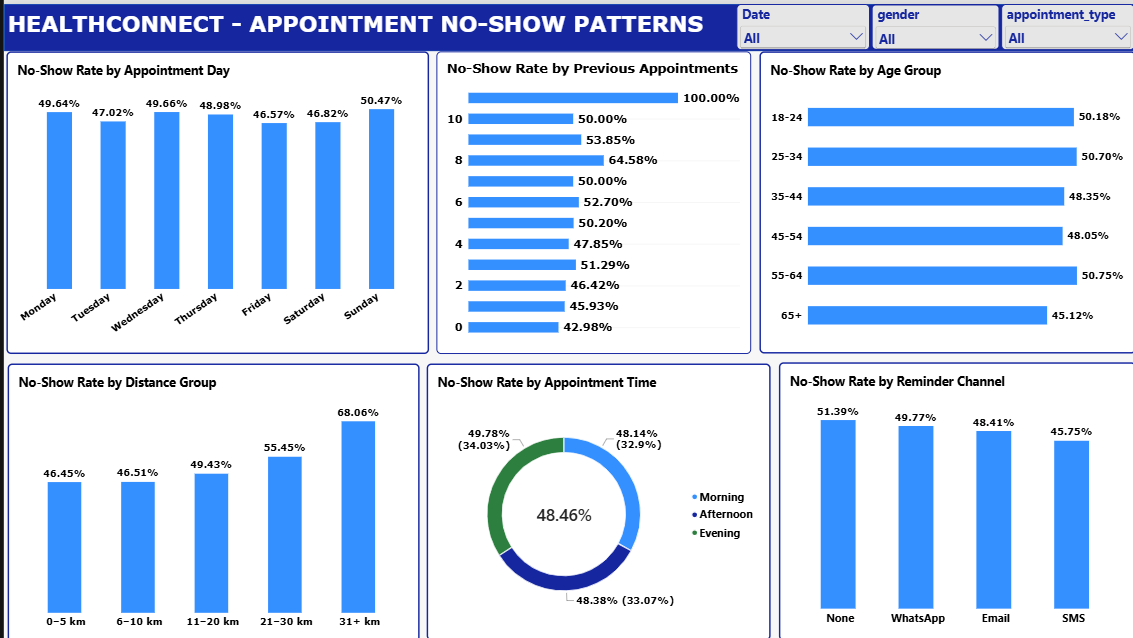

The page's visual inventory and layout, read from the dashboard file:
{"tool":"powerbi","page":{"name":"NO-SHOW-PATTERN","canvas":[1920,1080],"ordinal":1},"visuals":[{"type":"shape","box":[0,0,1918.5,80.3],"z":0},{"type":"clusteredColumnChart","title":"No-Show Rate by Appointment Day","fields":{"Category":["Appointments.appointment_day"],"Y":["Appointments.No-Show Rate"]},"box":[4.1,80.3,716.4,512.5],"z":1000},{"type":"clusteredBarChart","title":"No-Show Rate by Age Group","fields":{"Category":["Appointments.age_group"],"Y":["Appointments.No-Show Rate"]},"box":[1280.5,80.3,637.7,512.2],"z":2000},{"type":"donutChart","title":"No-Show Rate by Appointment Time","fields":{"Category":["Appointments.appointment_time"],"Y":["Appointments.No-Show Rate"]},"box":[716.4,609.3,582.6,469.3],"z":3000},{"type":"clusteredColumnChart","fields":{"Category":["Appointments.Distance Group New"],"Y":["Appointments.No-Show Rate"]},"box":[6.2,609.3,697.8,471.4],"z":4000},{"type":"slicer","fields":{"Values":["Appointments.appointment_type"]},"box":[1690,0,226.4,78.2],"z":5000},{"type":"slicer","fields":{"Values":["Appointments.gender"]},"box":[1469.8,0,218.2,78.2],"z":6000},{"type":"slicer","fields":{"Values":["DateTable.Date"]},"box":[1241.3,0,226.4,78.2],"z":7000},{"type":"clusteredColumnChart","title":"No-Show Rate by Reminder Channel","fields":{"Category":["Appointments.reminder_channel"],"Y":["Appointments.No-Show Rate"]},"box":[1313.3,607.3,605.2,471.4],"z":8000},{"type":"textbox","box":[6.2,10.3,1274.2,70],"z":9000},{"type":"clusteredBarChart","title":"No-Show Rate by Previous Appointments","fields":{"Y":["Appointments.No-Show Rate"],"Category":["Appointments.previous_appointments"]},"box":[732.8,80.3,533.1,512.5],"z":10000}]}

Visuals, with their boxes in screenshot pixels (x1, y1, x2, y2), scaled from the page's 1920x1080 canvas onto the 1133x638 screenshot:
shape: select_region(0, 0, 1132, 47)
"No-Show Rate by Appointment Day" clusteredColumnChart: select_region(2, 47, 425, 350)
"No-Show Rate by Age Group" clusteredBarChart: select_region(756, 47, 1132, 350)
"No-Show Rate by Appointment Time" donutChart: select_region(423, 360, 767, 637)
clusteredColumnChart - Appointments.Distance Group New x Appointments.No-Show Rate: select_region(4, 360, 415, 637)
slicer - Appointments.appointment_type: select_region(997, 0, 1131, 46)
slicer - Appointments.gender: select_region(867, 0, 996, 46)
slicer - DateTable.Date: select_region(732, 0, 866, 46)
"No-Show Rate by Reminder Channel" clusteredColumnChart: select_region(775, 359, 1132, 637)
textbox: select_region(4, 6, 756, 47)
"No-Show Rate by Previous Appointments" clusteredBarChart: select_region(432, 47, 747, 350)
